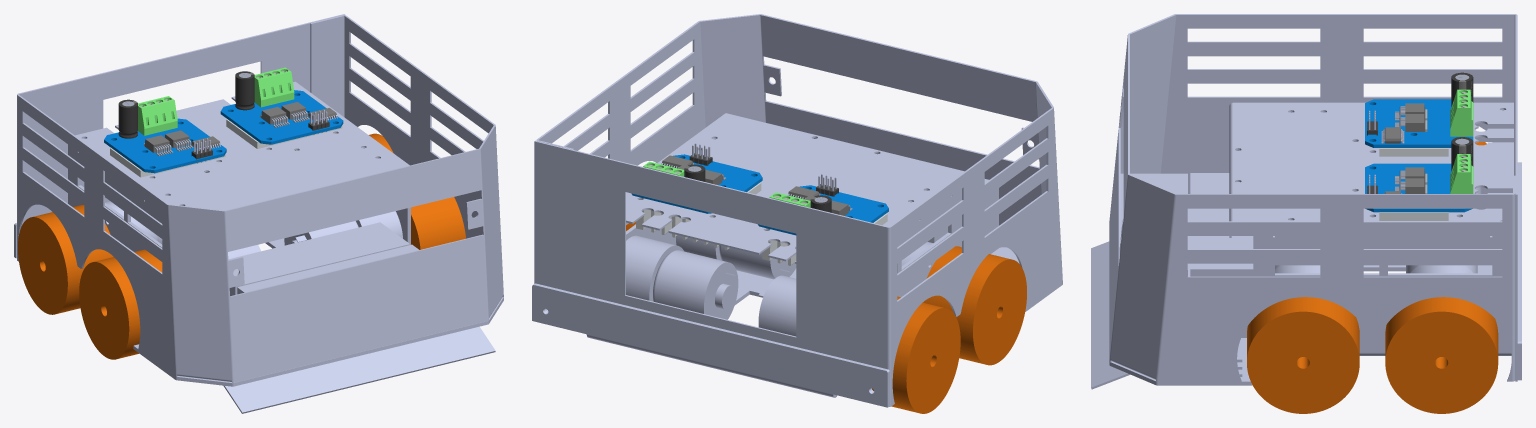
The model's file is sumo-2024.glb.
The picture shows the model from 3 angles, left to right: view 1: azimuth 30°, elevation 25°; view 2: azimuth 150°, elevation 25°; view 3: azimuth 270°, elevation 25°; orthographic projection. The views are drawn at different scales.
Parts seen in each view (by area): view 1: NAUO1; view 2: NAUO1; view 3: NAUO1.
Part boxes in pixels (<box>): NAUO1: <box>14,14,503,413</box>; NAUO1: <box>532,14,1062,413</box>; NAUO1: <box>1091,14,1521,413</box>.
Bounding box in the file's own units: 0.2051 × 0.1096 × 0.1985.
1 material, 1 textured.
